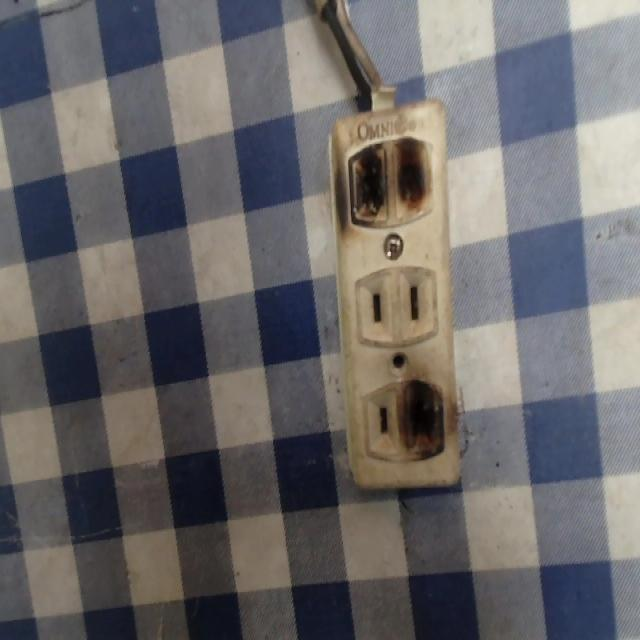-: (331, 127, 435, 233), (396, 372, 457, 471)
